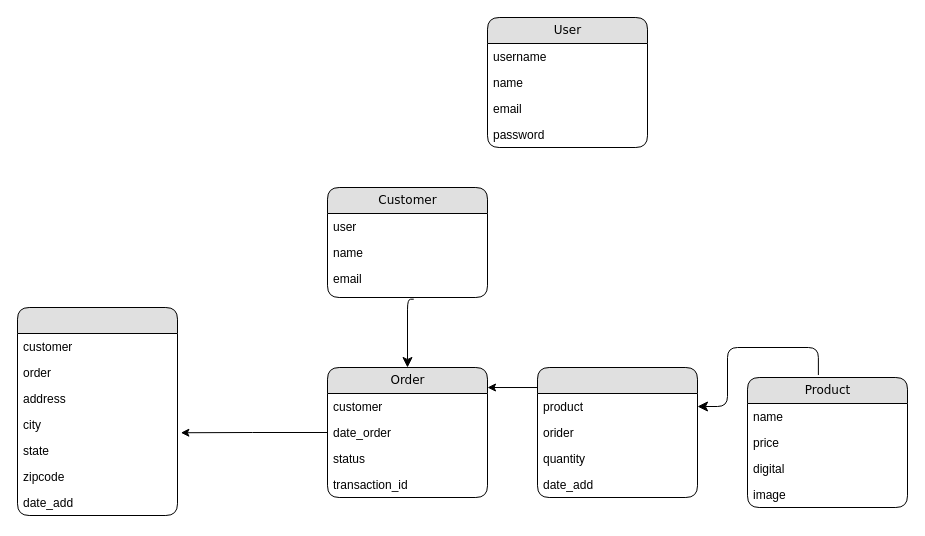
This 925x536 diagram has some shape labels left out. Each missing label, with the box of its shape:
OrderItem: (536, 366, 698, 498)
ShippingAddress: (16, 306, 178, 516)
